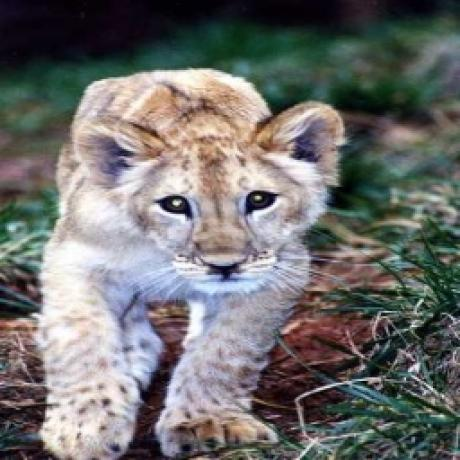Lion: (36, 62, 350, 460)
